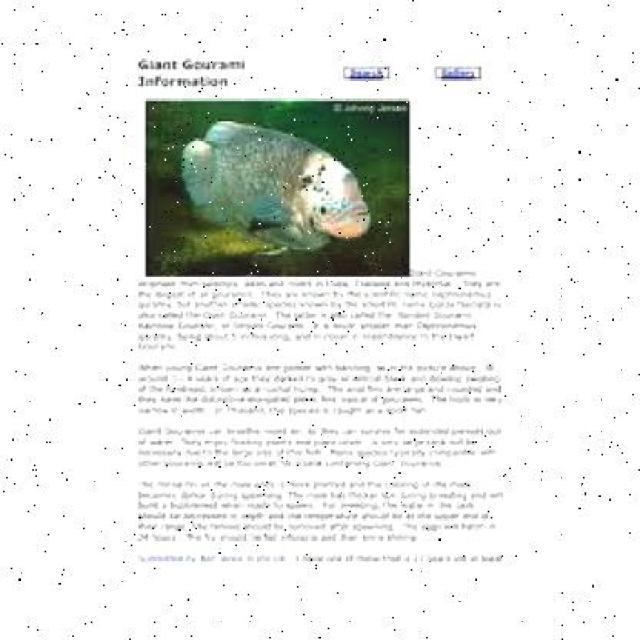gurame: (184, 108, 382, 254)
